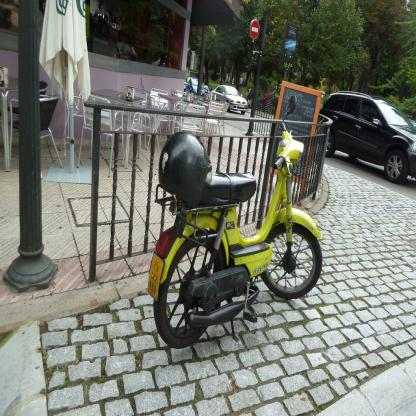Helmet: (159, 131, 212, 207)
